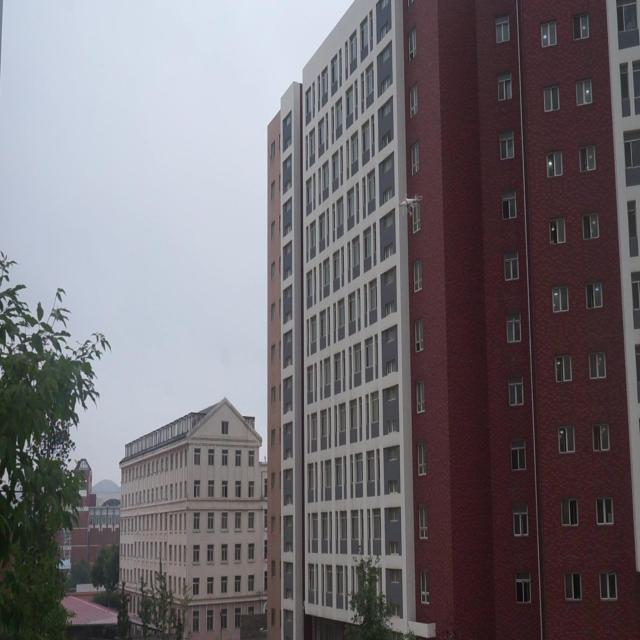drone: (398, 192, 421, 218)
